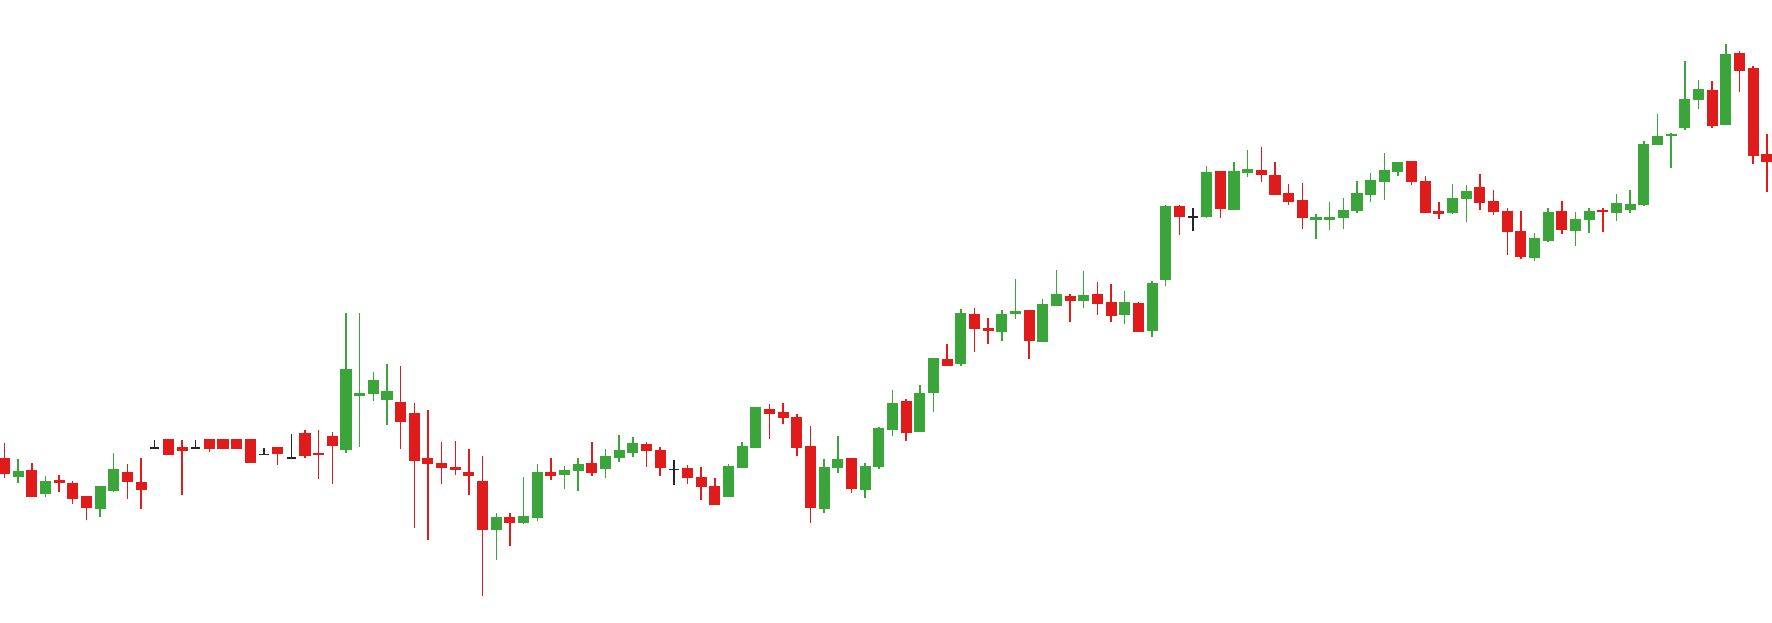buy: (1312, 180, 1557, 268), (705, 455, 833, 520)
